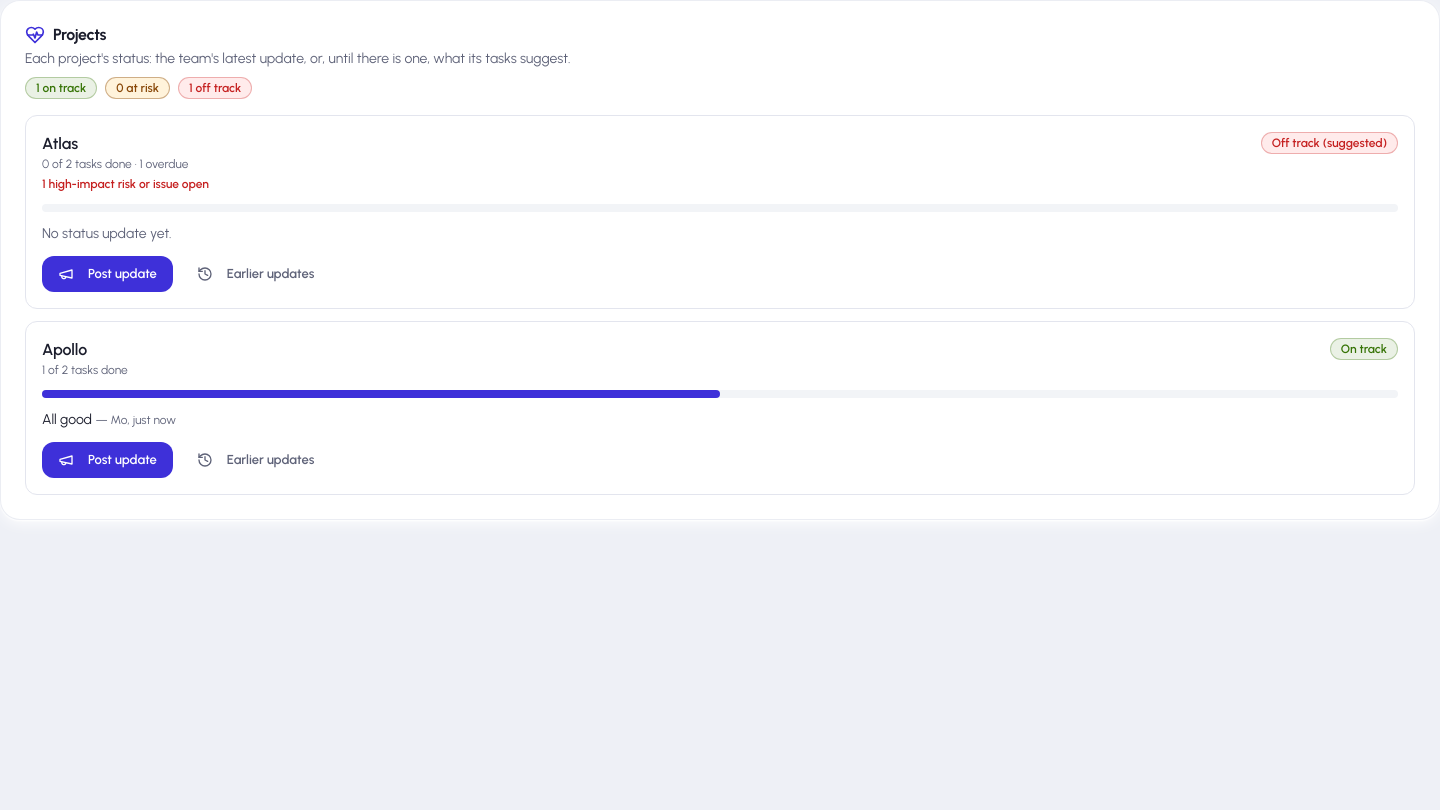
Scenario: PortfolioHealth › posting an update needs a summary, then becomes the project status
This screenshot has width=1440, height=810.
Click the button "Post update" below "Atlas" at (107, 274), box [42, 256, 173, 292]
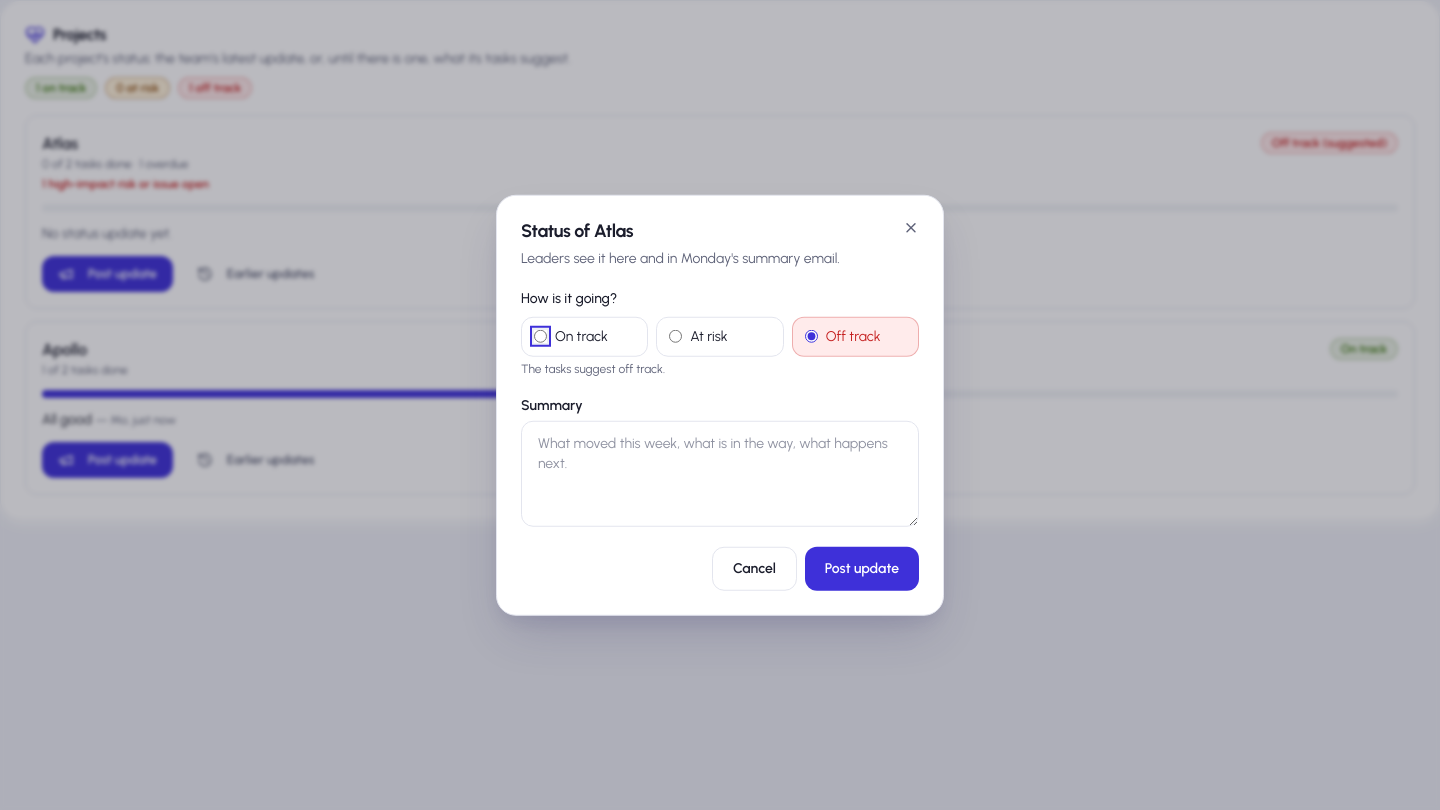
Click the button "Post update" at (862, 568), box [805, 546, 919, 590]
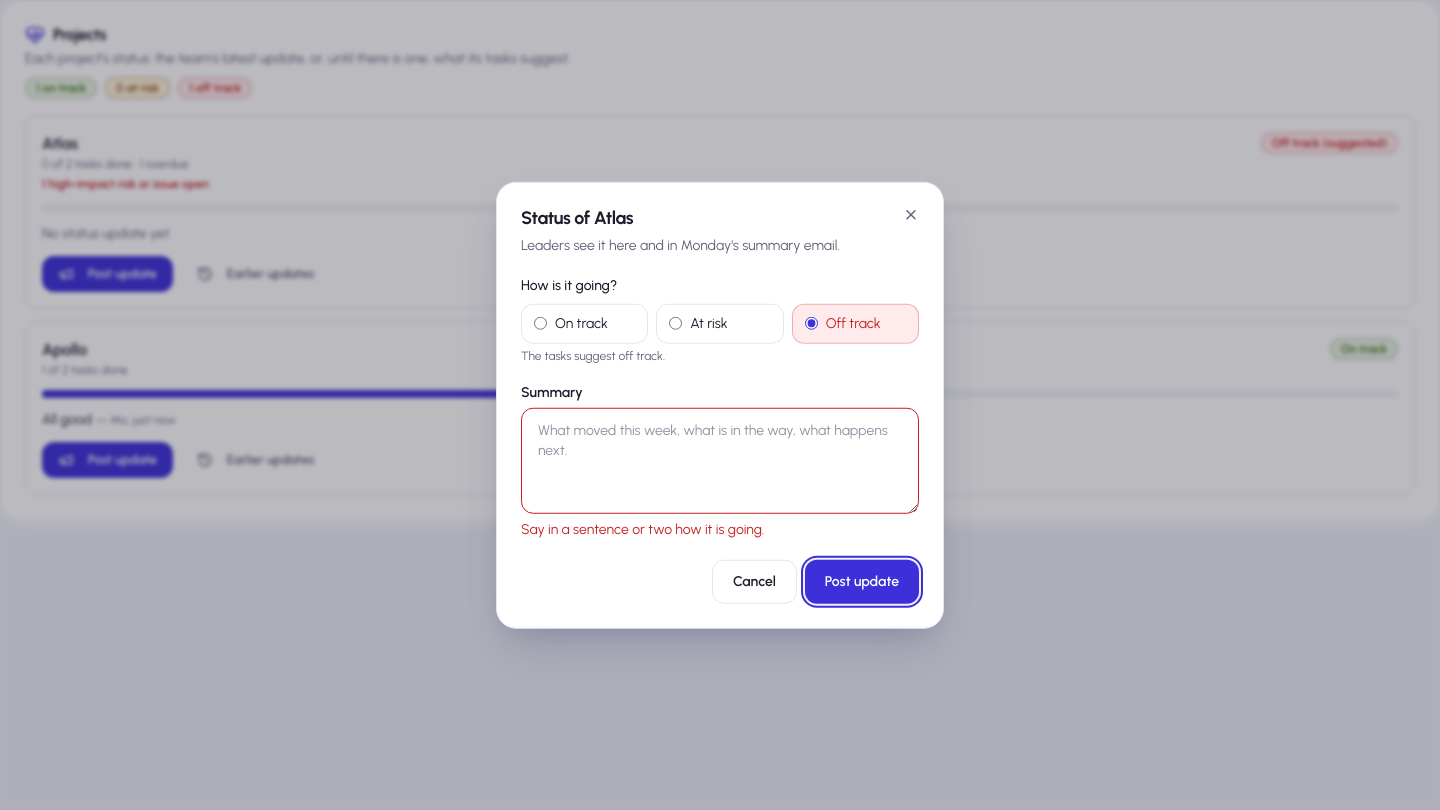
Result: the text "Say in a sentence or two how it is going." is shown at [521, 520, 764, 537]
Click the radio button labelled "At risk" at (676, 323), box [669, 317, 682, 330]
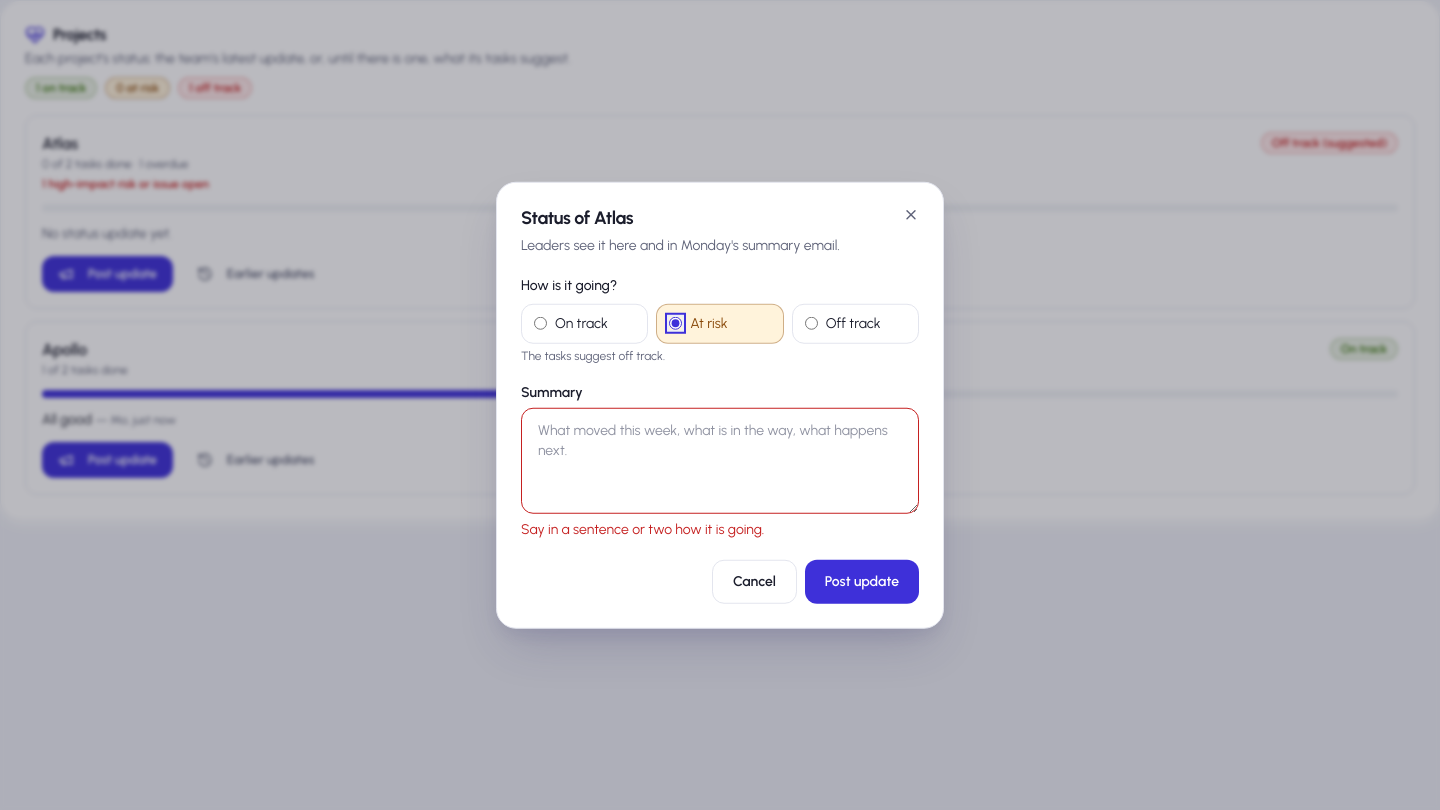
Type "Vendor late, recovering next week" into the text box labelled "Summary" at (720, 460), box [521, 407, 919, 513]
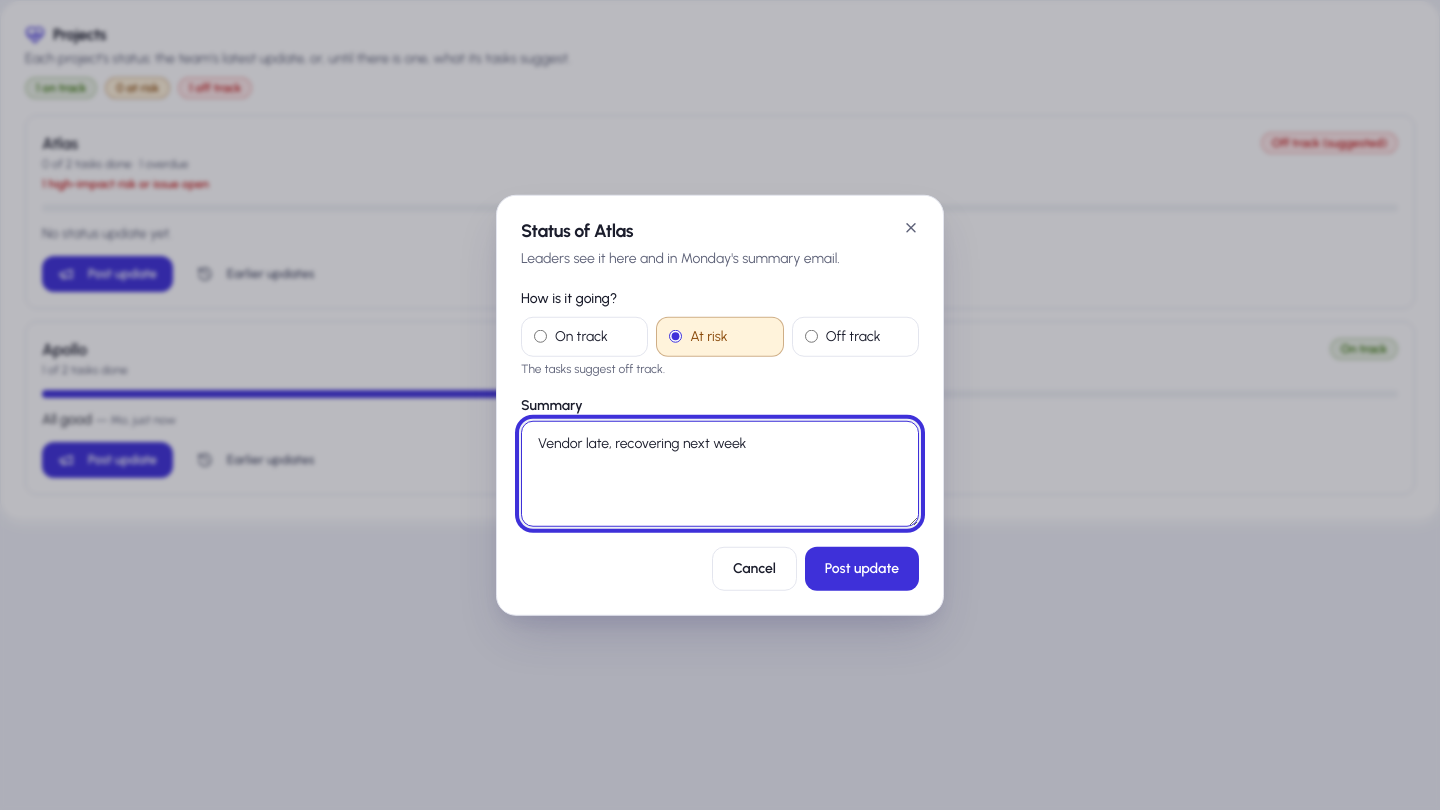
Click the button "Post update" at (862, 568), box [805, 546, 919, 590]
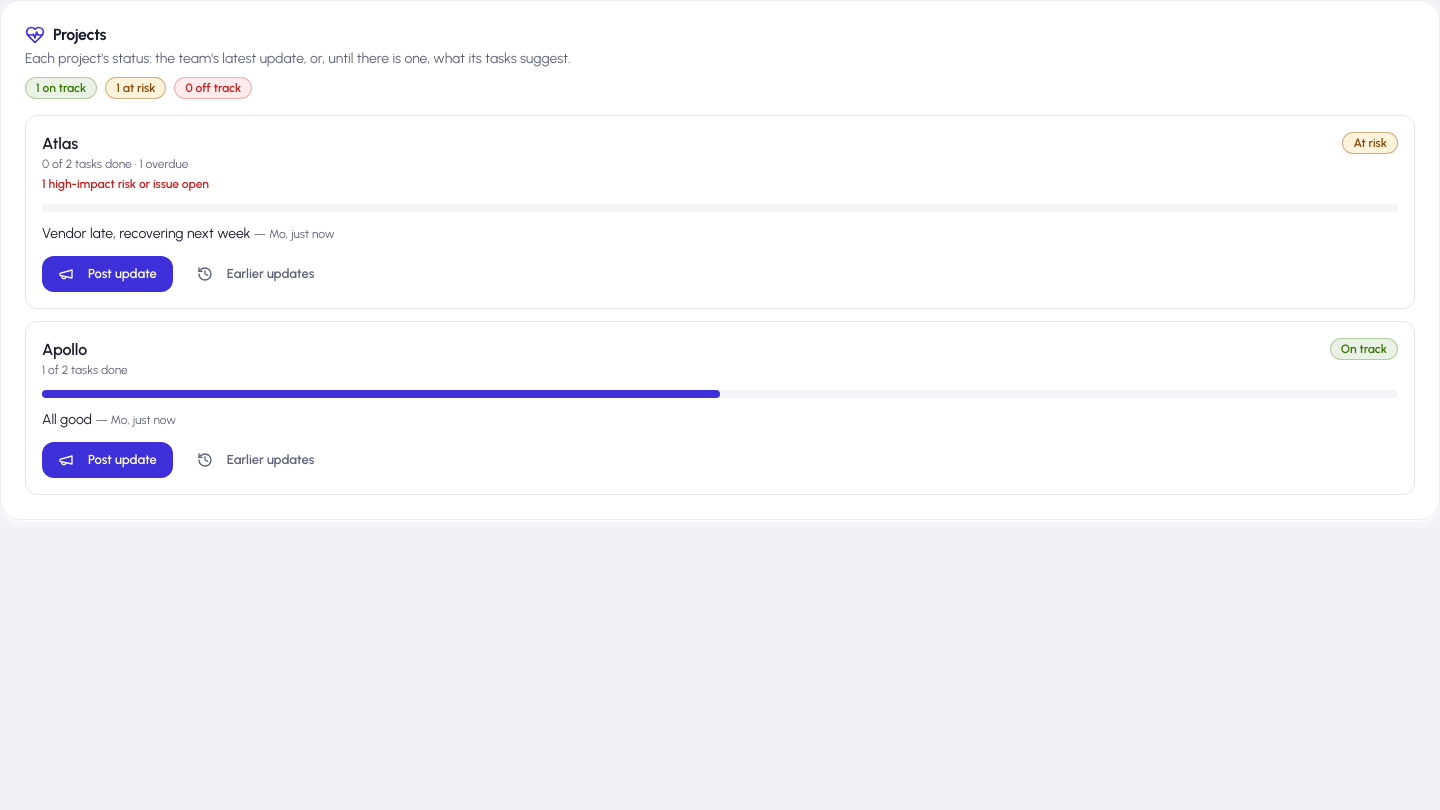
Result: the list item that starts with "Atlas" shows "At risk" at [1354, 136, 1387, 150]
Result: the list item that starts with "Atlas" no longer shows "(suggested)" at [25, 115, 1415, 309]
